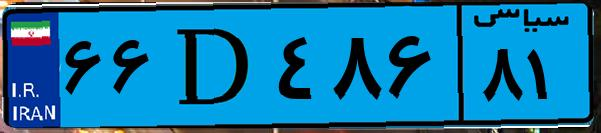1: (525, 38, 570, 115)
4: (270, 28, 330, 110)
6: (385, 28, 445, 110), (57, 26, 110, 100), (110, 28, 158, 98)
8: (330, 28, 385, 110), (475, 38, 525, 113)
D: (158, 12, 270, 120)
